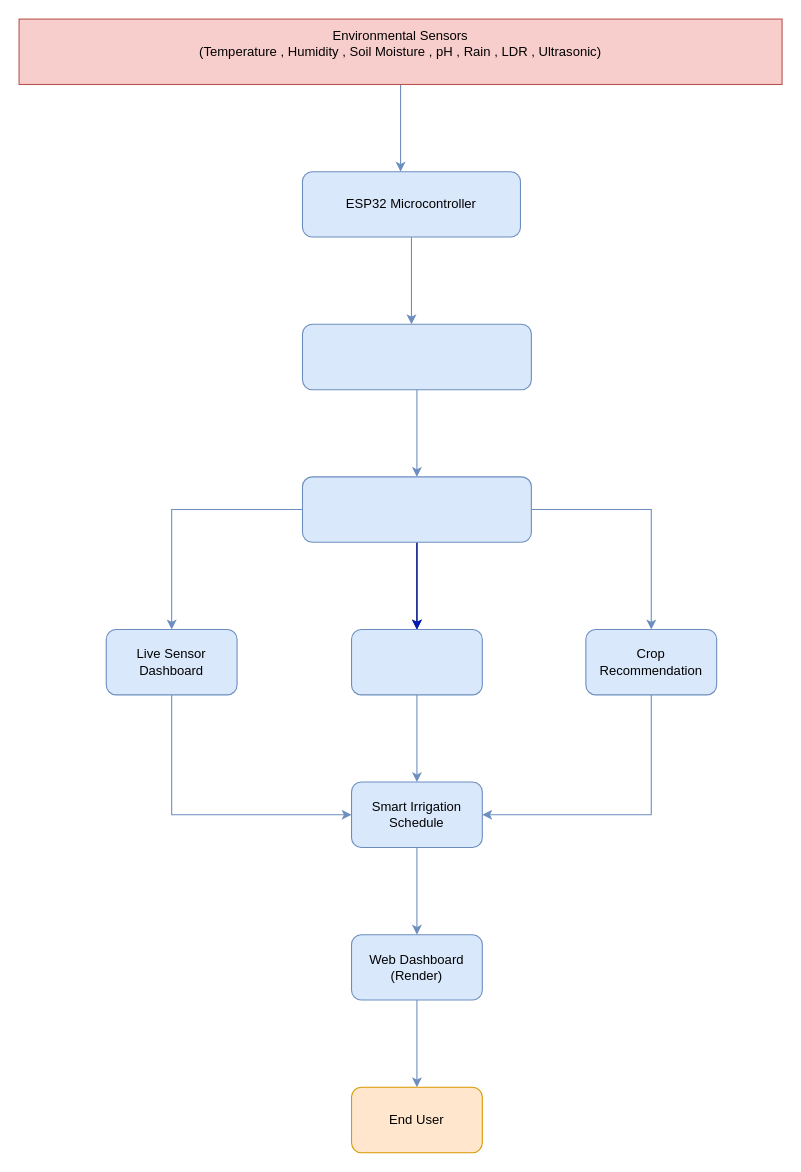
This 801x1172 diagram has some shape labels left out. The centre of each missing label's shape, as x and y in pixels:
AI Expert Engine: point 416,661
Flask Backend Server: point 416,509
HTTP POST Requests: point 416,356
